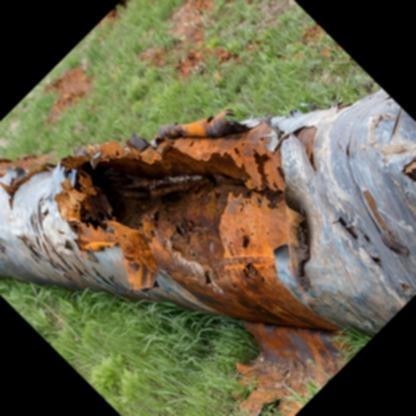burst: (61, 153, 303, 260)
